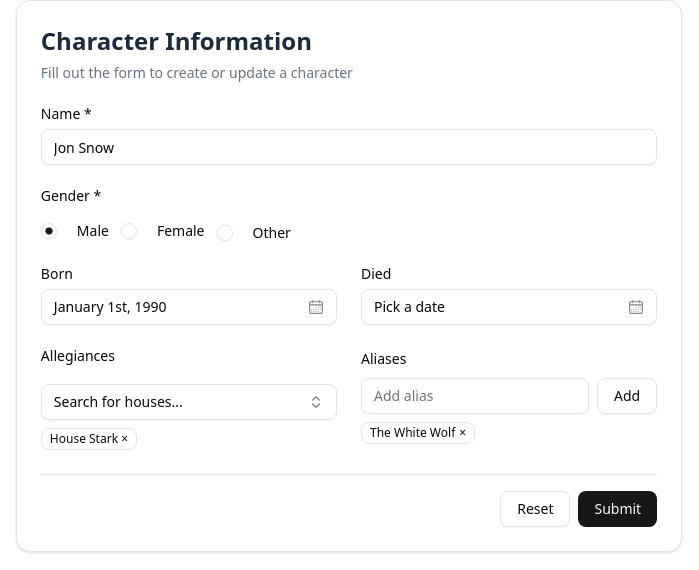
Test: CharacterForm › resets form when reset button is clicked
Replace the text in the field labelled "Name *" with "Sansa" at (349, 147), box [41,129,657,165]
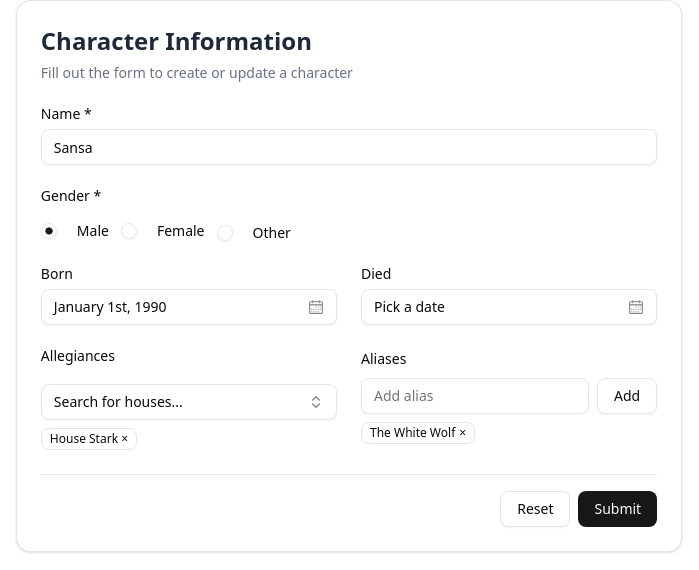
Click the button "Reset".
click(535, 509)  # box [500,491,570,527]
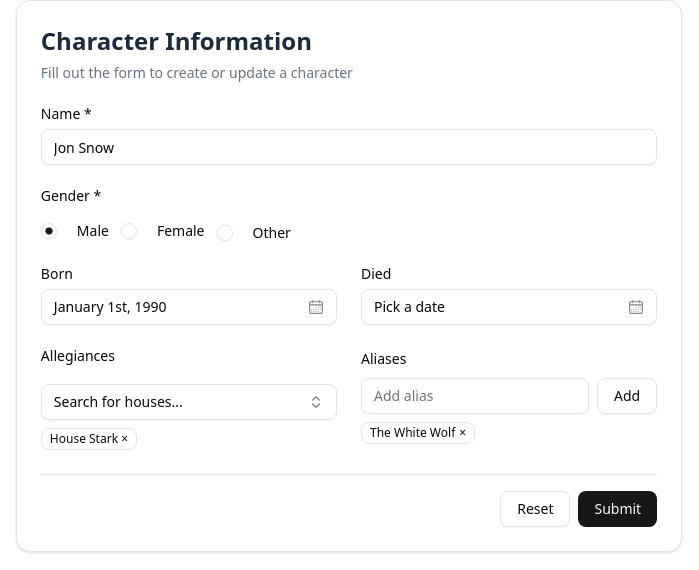
Now the field showing "Jon Snow" is shown, box [41,129,657,165]
